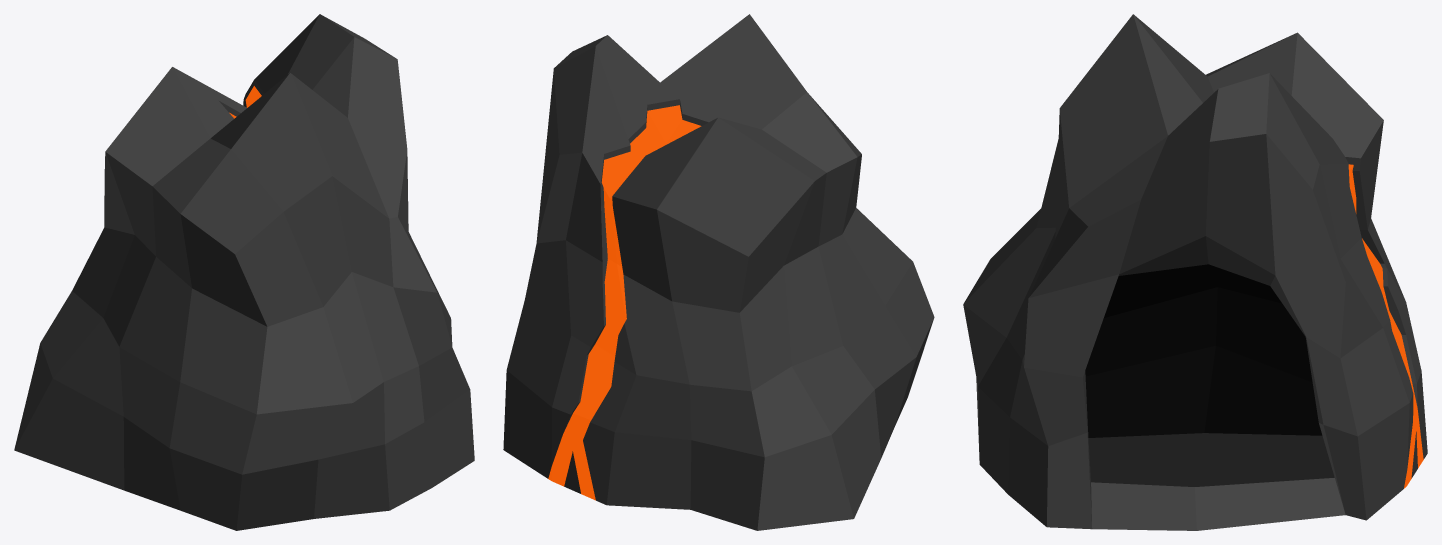
File: CaveEntranceMuspelheim.glb
3 views of the same model, side by side, from view 1: azimuth 30°, elevation 25°; view 2: azimuth 150°, elevation 25°; view 3: azimuth 270°, elevation 25° (orthographic). The views are drawn at different scales.
Parts seen in each view (by area): view 1: Cube; view 2: Cube; view 3: Cube.
Boxes of the visible parts, box(x1,y1,x2,y2) form: Cube: box(14, 14, 474, 530); Cube: box(503, 14, 934, 530); Cube: box(963, 14, 1427, 530).
Size of the model in its own units: 3.44 by 3.7 by 3.58.
